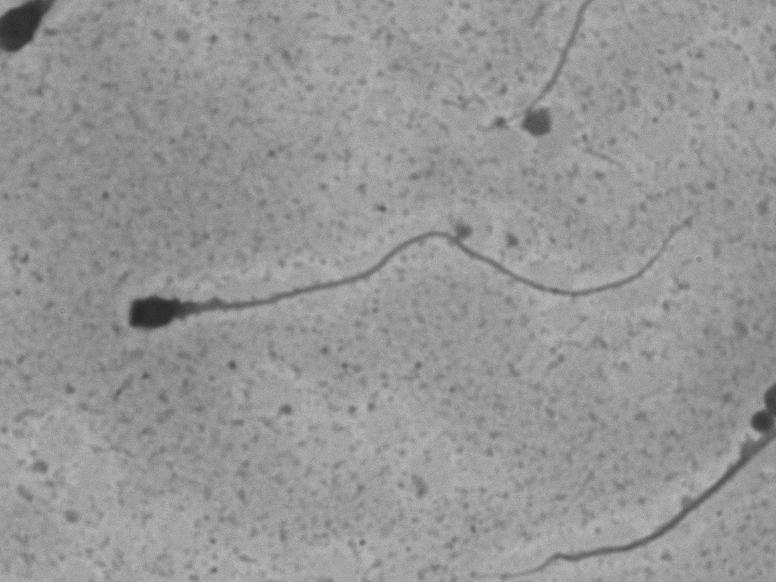Abnormal: (93, 196, 683, 379)
